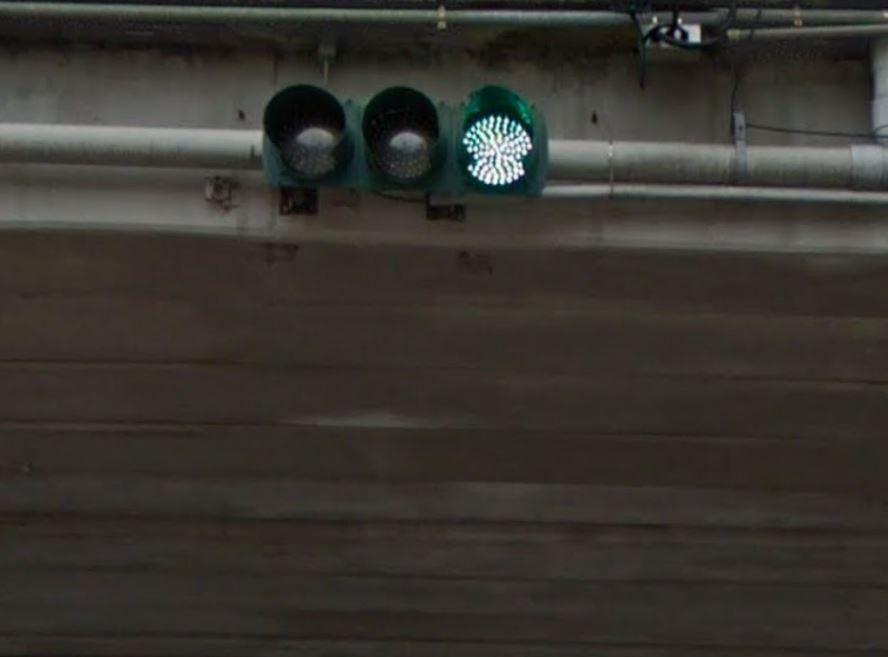green_traffic_light: (255, 71, 550, 201)
